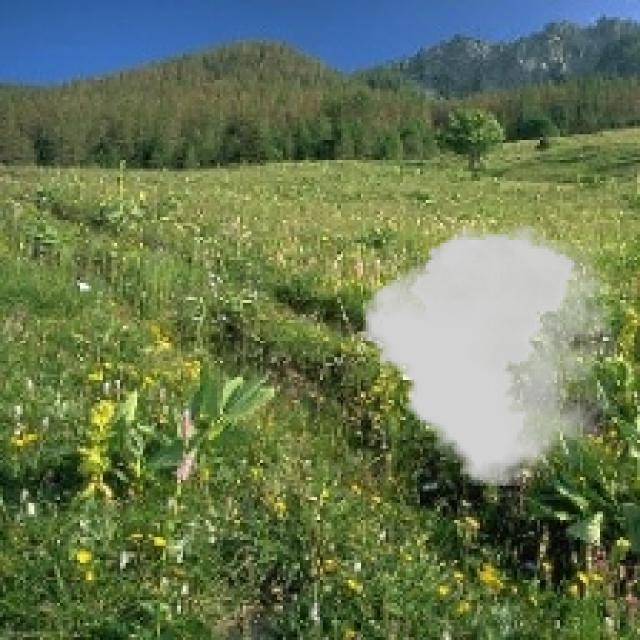smoke: (363, 223, 611, 486)
